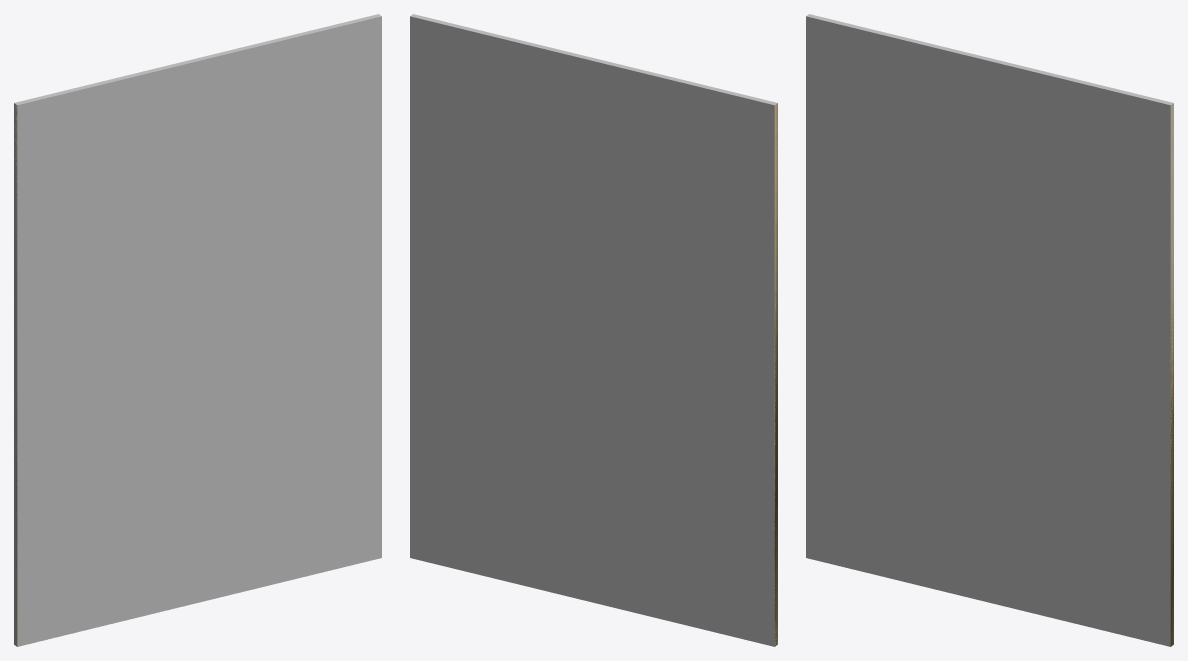
File: painting_05.DAE
3 views of the same model, side by side, from view 1: azimuth 30°, elevation 25°; view 2: azimuth 150°, elevation 25°; view 3: azimuth 330°, elevation 25° (orthographic).
Visible parts, largest first — view 1: bounds, painting_five100; view 2: bounds, painting_five100; view 3: bounds, painting_five100.
Part boxes in pixels (x1,y1,x2,y2): bounds: (14,14,381,646); painting_five100: (14,104,17,646); bounds: (410,14,777,646); painting_five100: (774,103,777,646); bounds: (806,14,1173,646); painting_five100: (812,104,1173,646).
Size of the model in its own units: 99.54 by 1.51 by 141.
